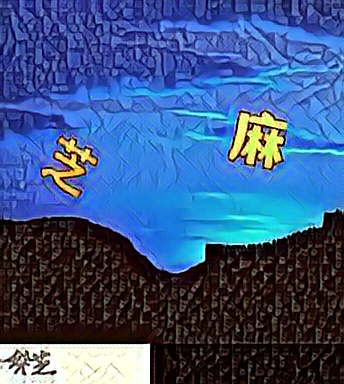C2E9: (226, 108, 288, 172)
D6A5: (38, 134, 100, 198)
